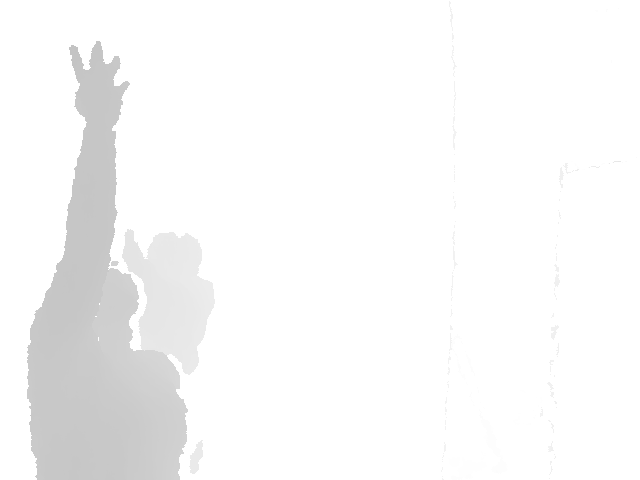hand: (68, 41, 131, 132)
head: (92, 263, 142, 360), (147, 233, 203, 291)
person: (25, 41, 188, 480), (121, 228, 217, 480)
